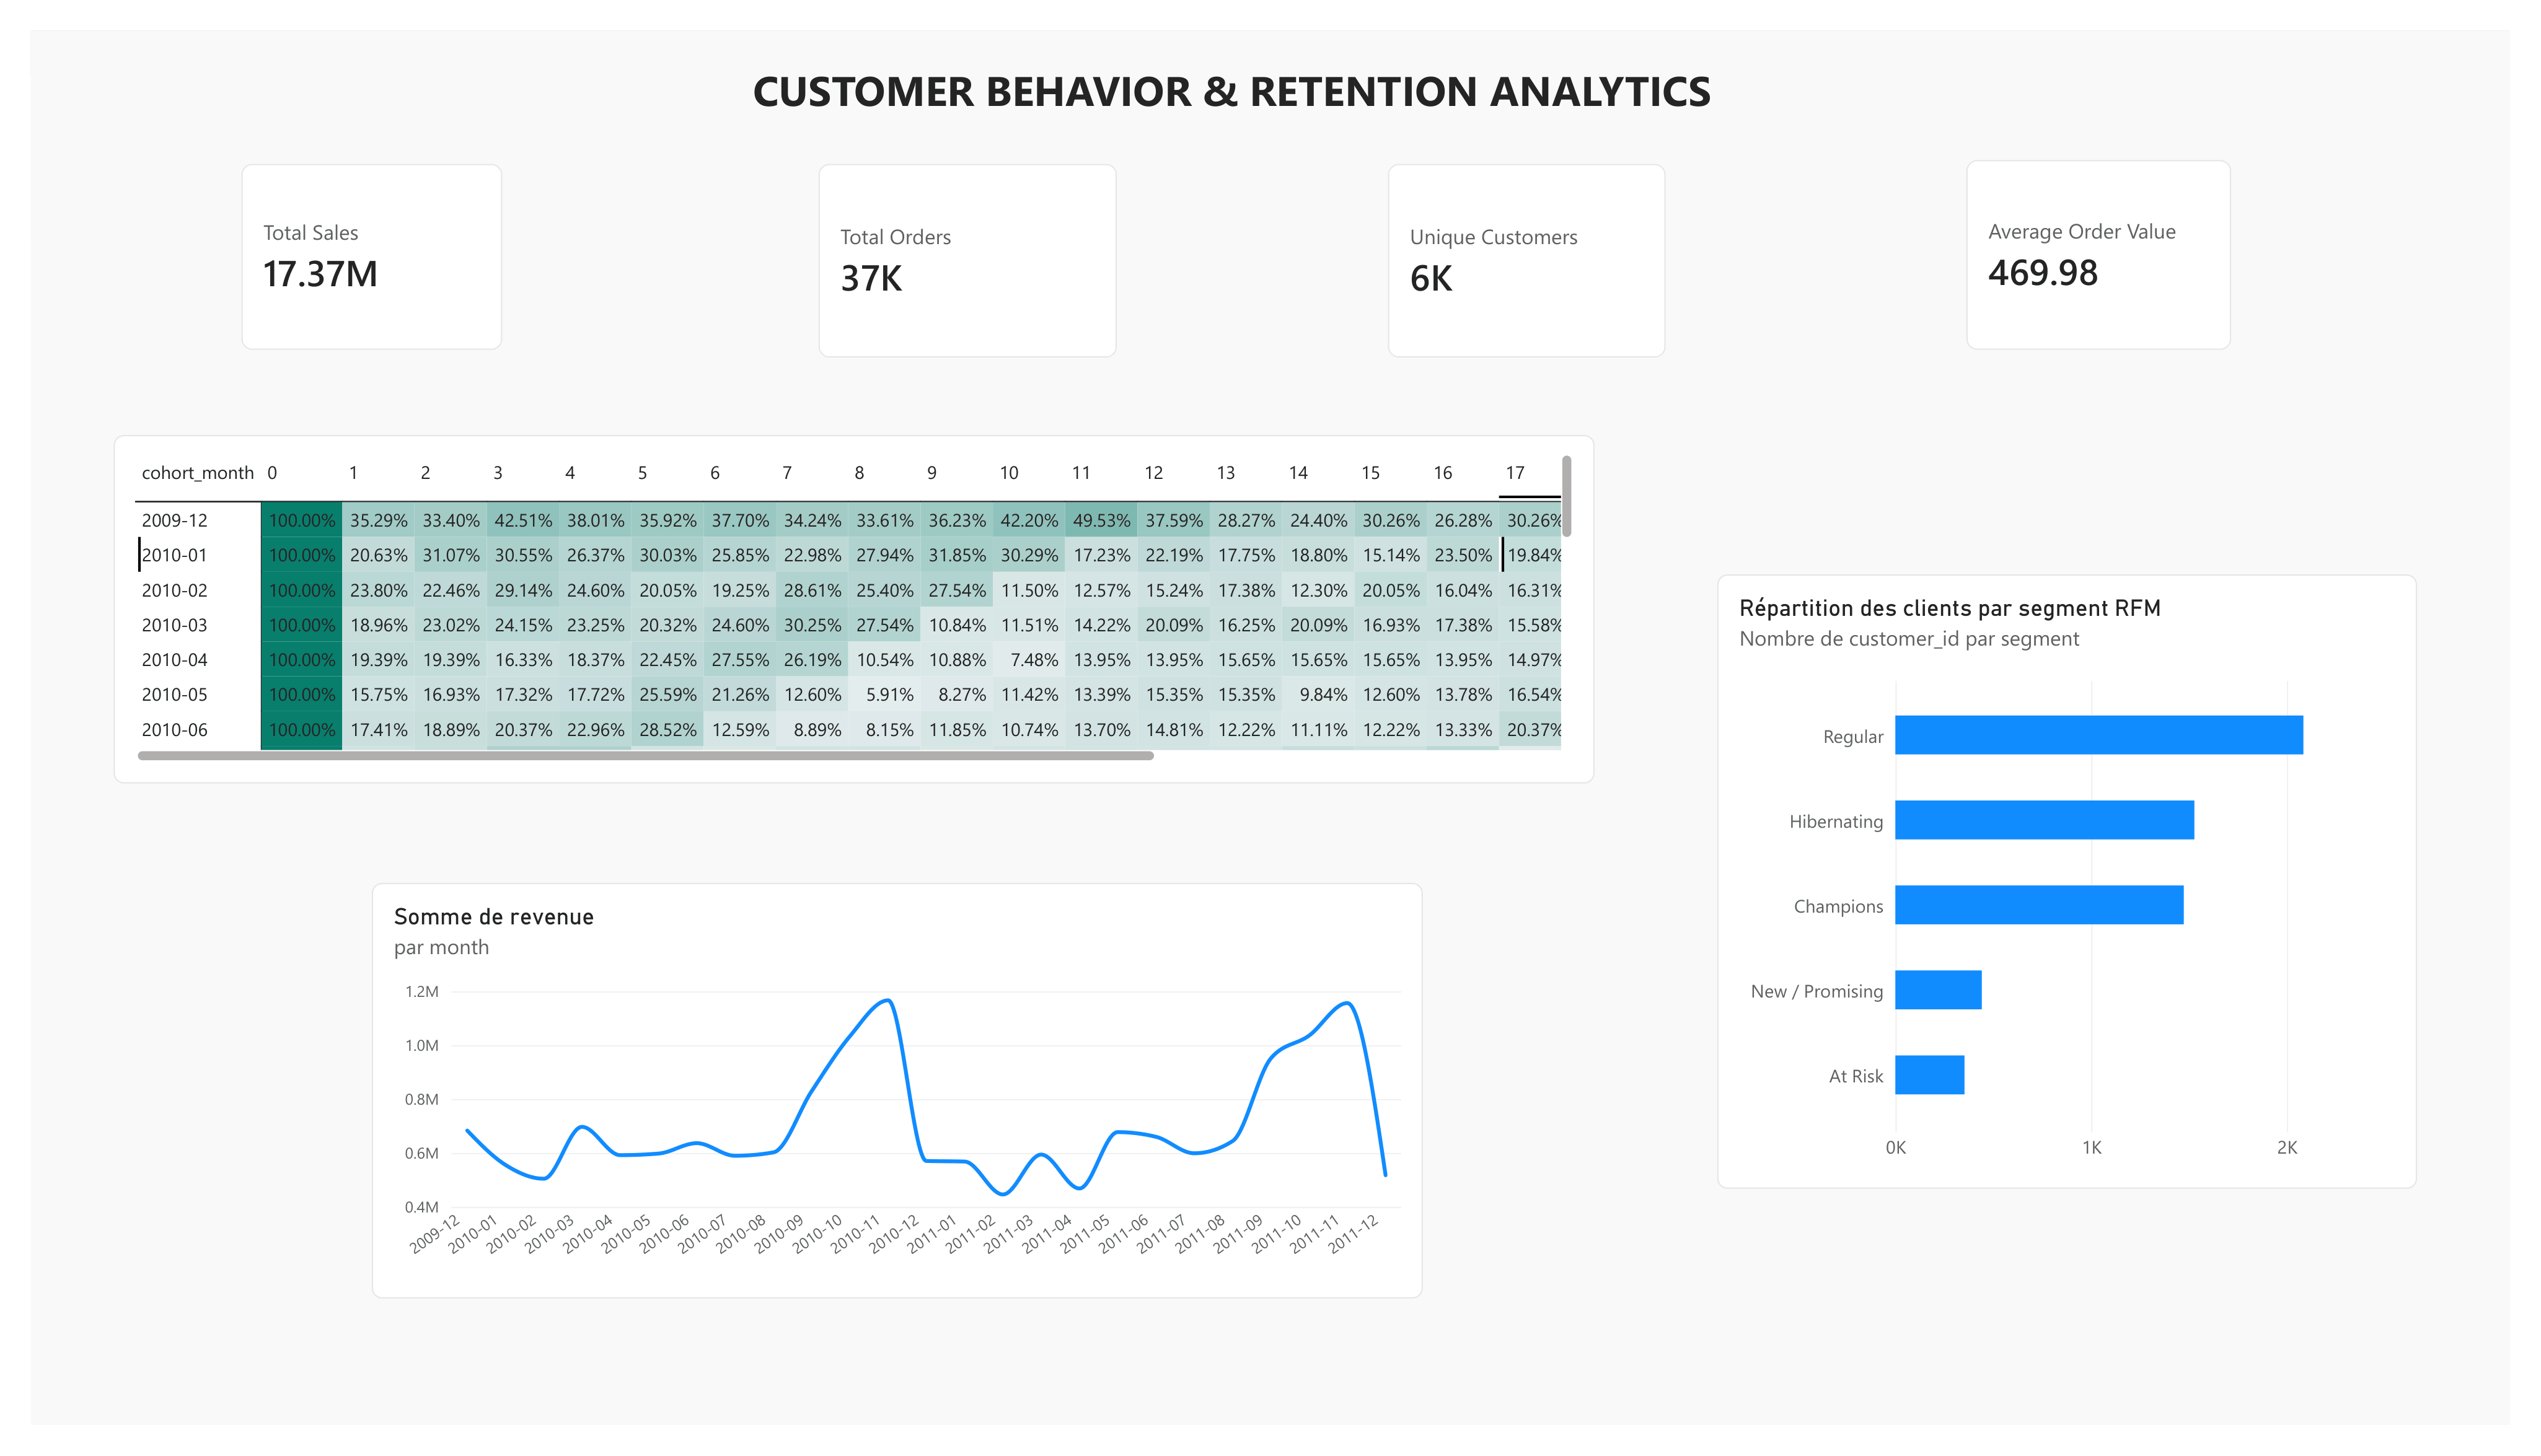

Layout of this report page (visuals, bound fields, positions):
{"tool":"powerbi","page":{"name":"Page 1","canvas":[1920,1080],"ordinal":0},"visuals":[{"type":"cardVisual","fields":{"Data":["cohort_retention.Total Sales"]},"box":[97.5,90,202.5,117.5],"z":0},{"type":"cardVisual","fields":{"Data":["cohort_retention.Total Orders"]},"box":[445,90,202.5,122.5],"z":1000},{"type":"cardVisual","fields":{"Data":["cohort_retention.Unique Customers"]},"box":[757.5,90,175,117.5],"z":2000},{"type":"cardVisual","fields":{"Data":["cohort_retention.Average Order Value"]},"box":[1057.5,87.5,172.5,120],"z":3000},{"type":"lineChart","fields":{"Category":["monthly_kpis.month"],"Y":["Sum(monthly_kpis.revenue)"]},"box":[146,570,814,322],"z":4000},{"type":"clusteredBarChart","title":"Répartition des clients par segment RFM","fields":{"Category":["rfm_segments.segment"],"Y":["Sum(rfm_segments.customer_id)"]},"box":[1124,416,542,476],"z":4001}]}

Visuals, with their boxes on the page's 1920x1080 design canvas (x1, y1, x2, y2). These are canvas units, not pixel positions in the 2541x1456 screenshot, which may show the page scaled, cropped or inside an application window:
cardVisual - cohort_retention.Total Sales: bbox(98, 90, 300, 208)
cardVisual - cohort_retention.Total Orders: bbox(445, 90, 648, 212)
cardVisual - cohort_retention.Unique Customers: bbox(758, 90, 932, 208)
cardVisual - cohort_retention.Average Order Value: bbox(1058, 88, 1230, 208)
lineChart - monthly_kpis.month x Sum(monthly_kpis.revenue): bbox(146, 570, 960, 892)
"Répartition des clients par segment RFM" clusteredBarChart: bbox(1124, 416, 1666, 892)
